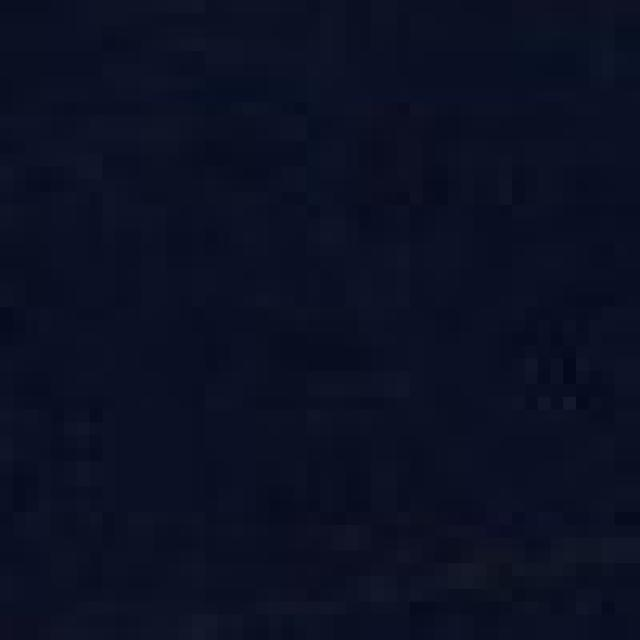no_fire: (60, 53, 640, 616)
